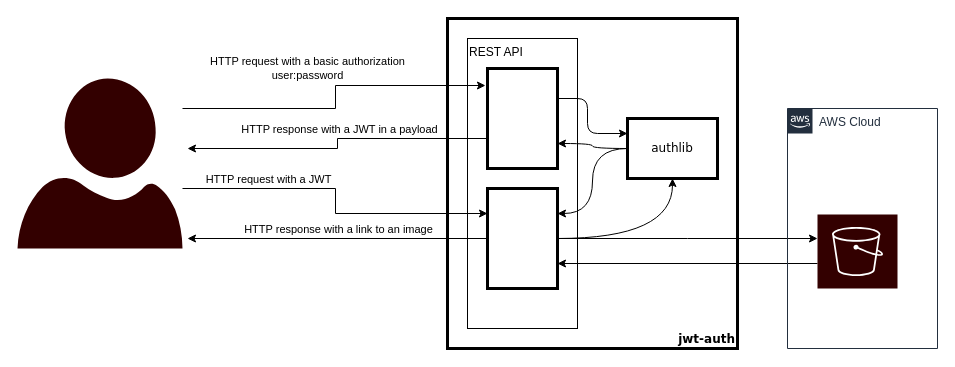
The diagram is 955 pixels wide and 367 high, and some of its shapes have lost their labels. The centre of each missing label's shape, as x and y in pixels:
"/image endpoint" belongs at pixel 522 238.
"/jwt endpoint" belongs at pixel 522 118.
